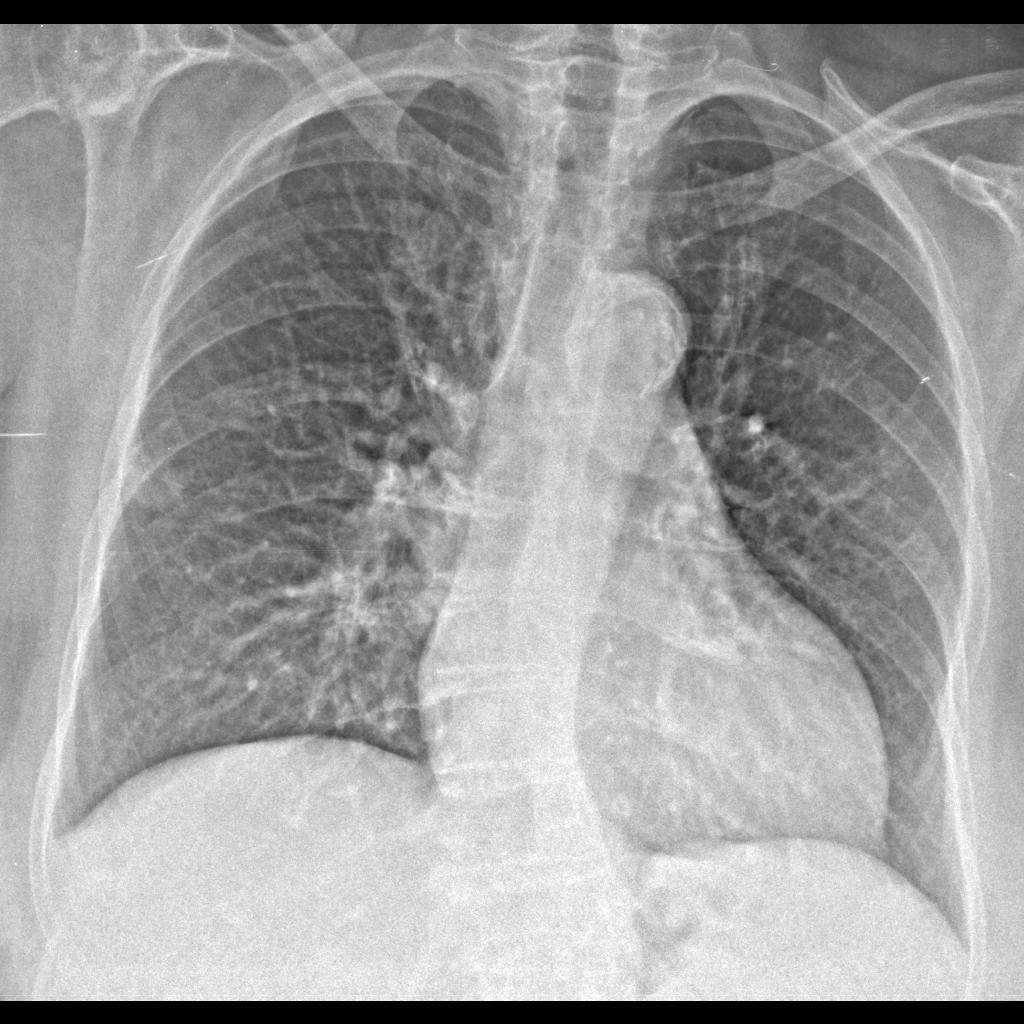Nodule: (124, 452, 194, 526)
